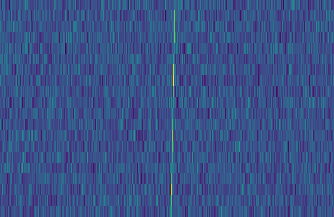signal: (167, 0, 178, 217)
